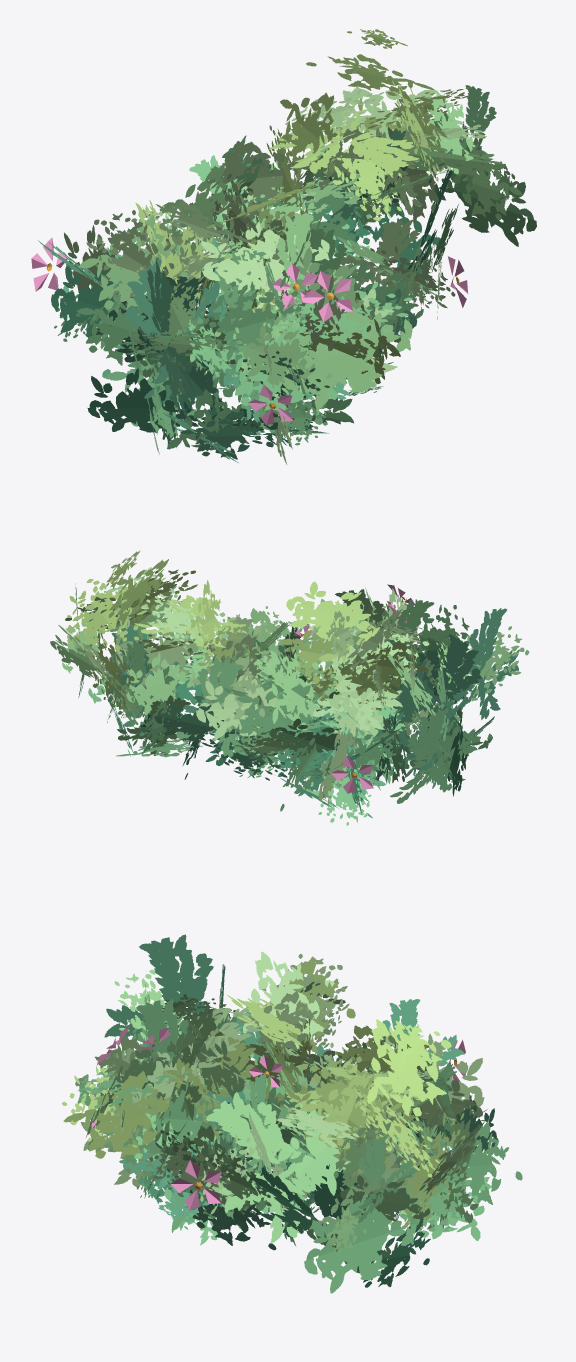
Rendered from Bush_03_Round_Flower_Pink_LOD1.glb.
3 views of the same model, one above another, from view 1: azimuth 30°, elevation 25°; view 2: azimuth 150°, elevation 25°; view 3: azimuth 270°, elevation 25° (orthographic). The views are drawn at different scales.
Parts seen in each view (by area): view 1: Bush_03_Round_Flower_Pink_LOD1; view 2: Bush_03_Round_Flower_Pink_LOD1; view 3: Bush_03_Round_Flower_Pink_LOD1.
Part boxes in pixels (box(x1,y1,x2,y2)): Bush_03_Round_Flower_Pink_LOD1: box(31, 29, 536, 464); Bush_03_Round_Flower_Pink_LOD1: box(50, 550, 529, 825); Bush_03_Round_Flower_Pink_LOD1: box(62, 934, 522, 1293).
Size of the model in its own units: 2.16 by 1.25 by 1.87.
8 materials, 6 textured.
